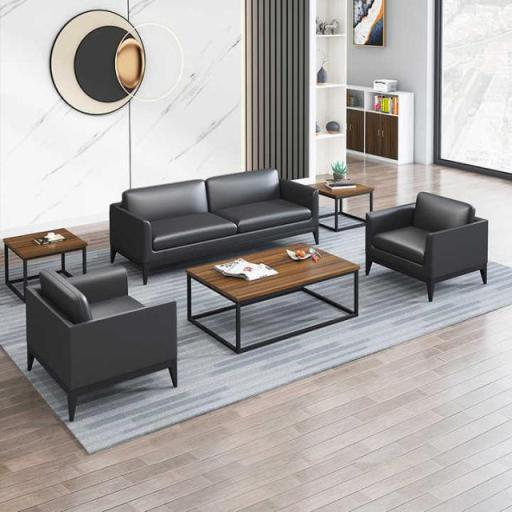sofa: (33, 248, 209, 424), (101, 168, 331, 260), (370, 187, 510, 333)
